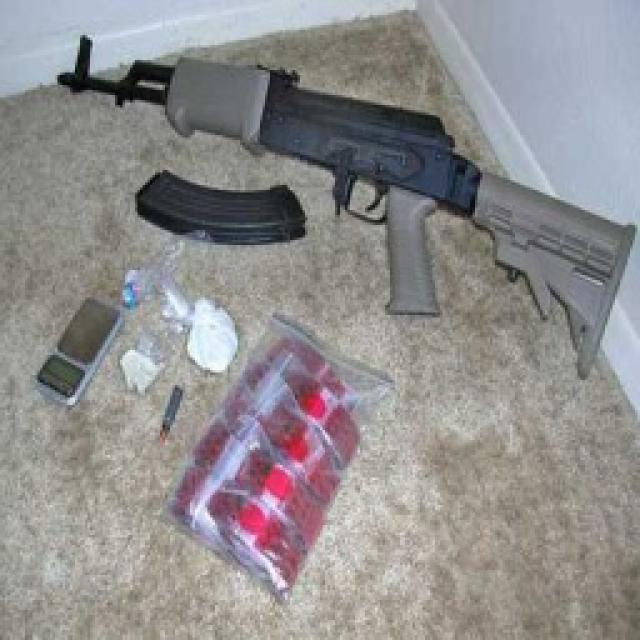long weapon: (44, 35, 639, 345)
